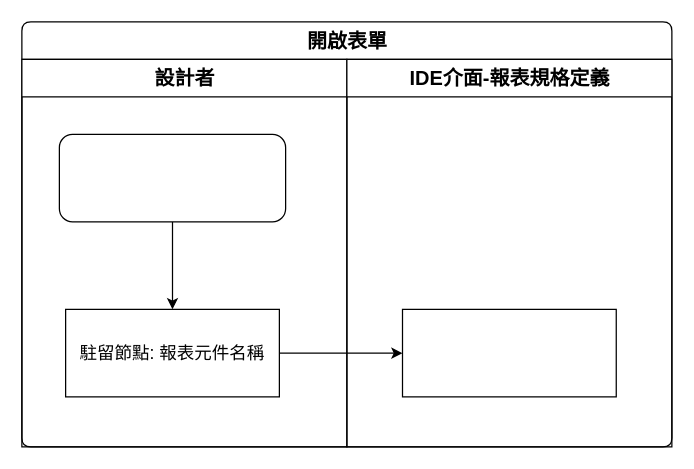
Image size: 694x469. Some labels were removed from this diagram. The centre of each missing label's shape, as x and y in pixels:
加註頁面 顯示報表元件設定內容: the point at 508,352
開啟: 報表規格定義: the point at 172,177
